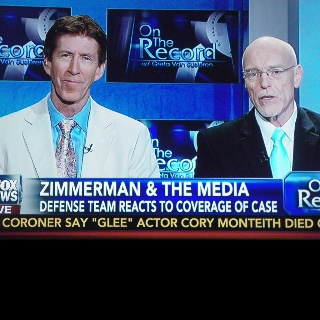without_mask: (245, 48, 295, 117), (50, 34, 98, 102)
